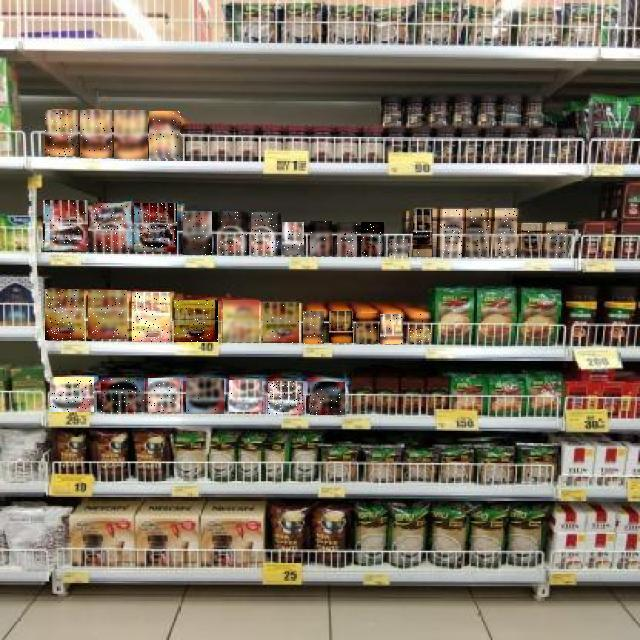Coffee: (43, 200, 88, 252), (134, 203, 177, 252), (45, 289, 84, 340), (92, 203, 131, 252), (88, 290, 127, 339), (132, 292, 170, 342), (174, 300, 218, 342), (114, 110, 148, 159), (51, 377, 95, 412), (80, 110, 112, 158), (150, 112, 182, 160), (45, 110, 78, 156), (223, 300, 259, 342), (263, 302, 299, 343), (101, 379, 144, 413), (187, 378, 225, 414), (183, 211, 212, 255), (218, 212, 247, 256), (252, 212, 280, 256), (268, 381, 303, 414), (310, 382, 345, 415), (466, 209, 489, 257), (148, 379, 180, 413), (495, 209, 517, 257), (414, 209, 436, 257), (441, 209, 463, 257), (229, 380, 262, 412), (361, 222, 384, 256), (310, 221, 332, 256), (329, 311, 353, 343), (547, 222, 568, 258), (282, 222, 304, 255), (304, 311, 326, 344), (380, 314, 403, 344), (357, 313, 379, 344), (337, 222, 357, 256), (409, 314, 431, 344), (522, 224, 541, 258), (389, 240, 408, 258)
